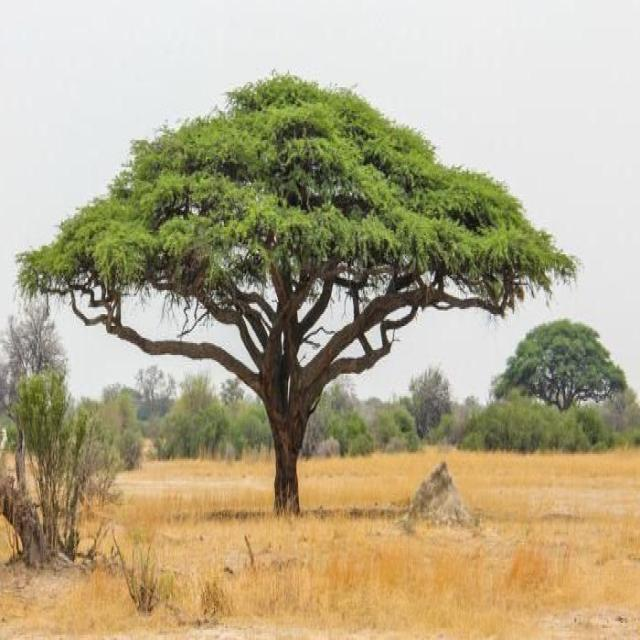Acacia: (27, 54, 540, 494)
